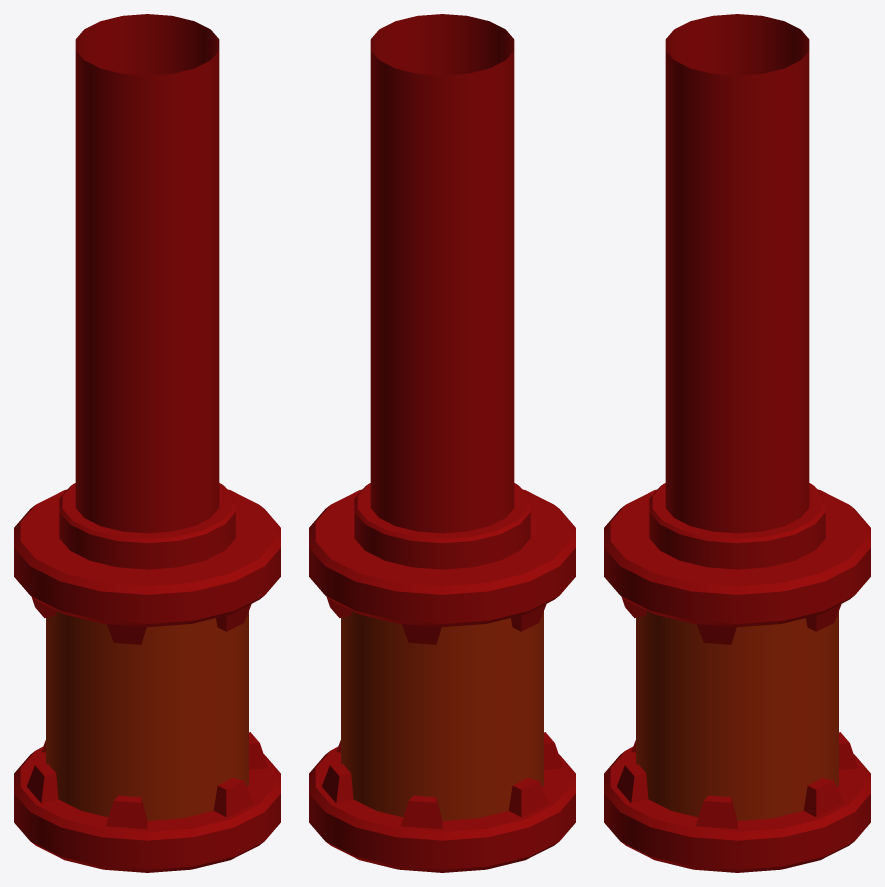
Rendered from ContainerTall.fbx.
3 views of the same model, side by side, from view 1: azimuth 30°, elevation 25°; view 2: azimuth 150°, elevation 25°; view 3: azimuth 270°, elevation 25° (orthographic).
Parts seen in each view (by area): view 1: Cylinder007, SlimeContainerGlass001; view 2: Cylinder007, SlimeContainerGlass001; view 3: Cylinder007, SlimeContainerGlass001.
Boxes of the visible parts, left/top/right/bottom form: Cylinder007: left=14, top=14, right=280, bottom=872; SlimeContainerGlass001: left=46, top=611, right=248, bottom=820; Cylinder007: left=309, top=14, right=575, bottom=872; SlimeContainerGlass001: left=341, top=611, right=543, bottom=820; Cylinder007: left=604, top=14, right=870, bottom=872; SlimeContainerGlass001: left=636, top=611, right=838, bottom=820.
Size of the model in its own units: 41.96 by 132 by 41.32.
